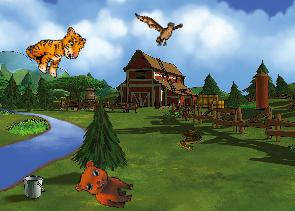bear: (73, 158, 138, 210)
eagle: (135, 9, 184, 48)
tiger: (21, 14, 89, 84)
